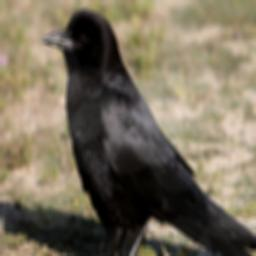Crow: (39, 7, 256, 256)
